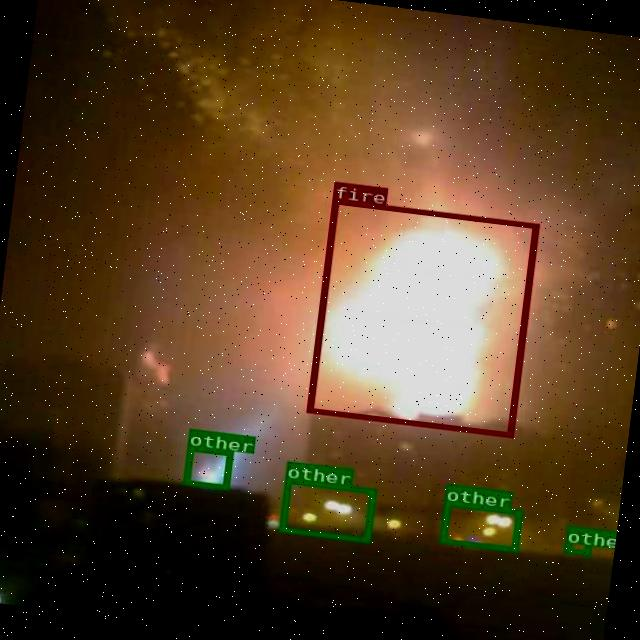fire: (304, 197, 537, 436)
